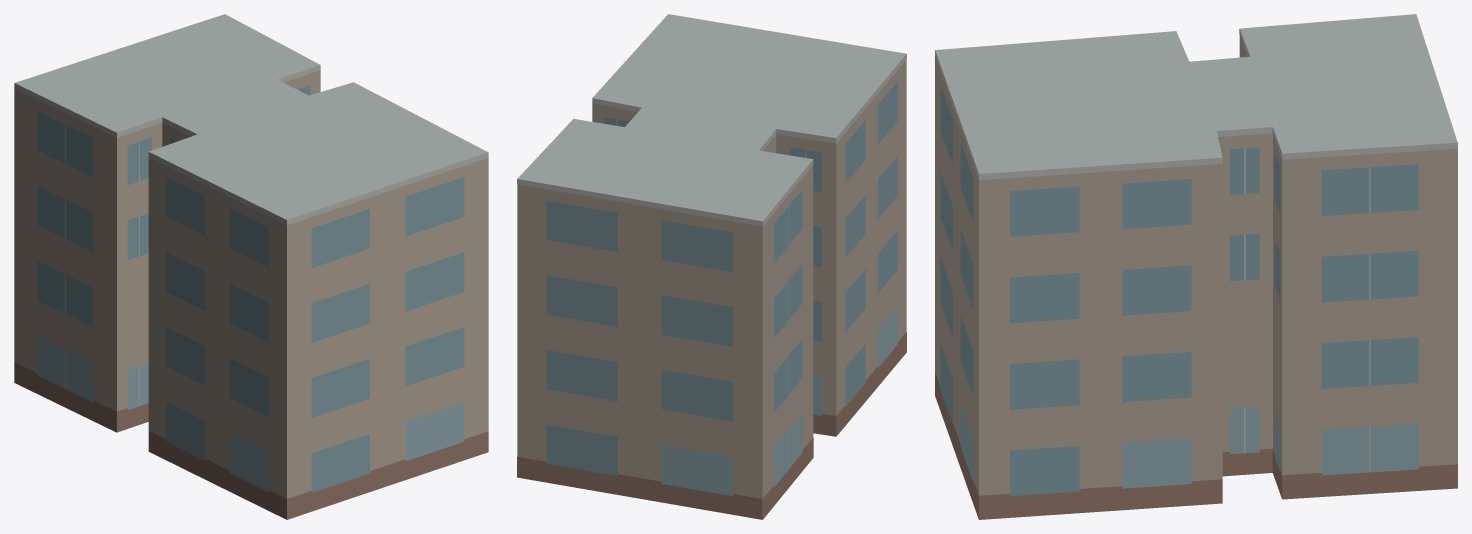
Rendered from survey-upis-32575912.glb.
3 renders of one model, left to right at view 1: azimuth 30°, elevation 25°; view 2: azimuth 150°, elevation 25°; view 3: azimuth 270°, elevation 25°, orthographic. The views are drawn at different scales.
Visible parts, largest first — view 1: survey-upis-32575912.tmp; view 2: survey-upis-32575912.tmp; view 3: survey-upis-32575912.tmp.
Boxes of the visible parts, x1,y1,x2,y2 form: survey-upis-32575912.tmp: (14,14,488,519); survey-upis-32575912.tmp: (517,14,906,519); survey-upis-32575912.tmp: (935,14,1457,519).
Size of the model in its own units: 13.67 by 13.75 by 18.85.
